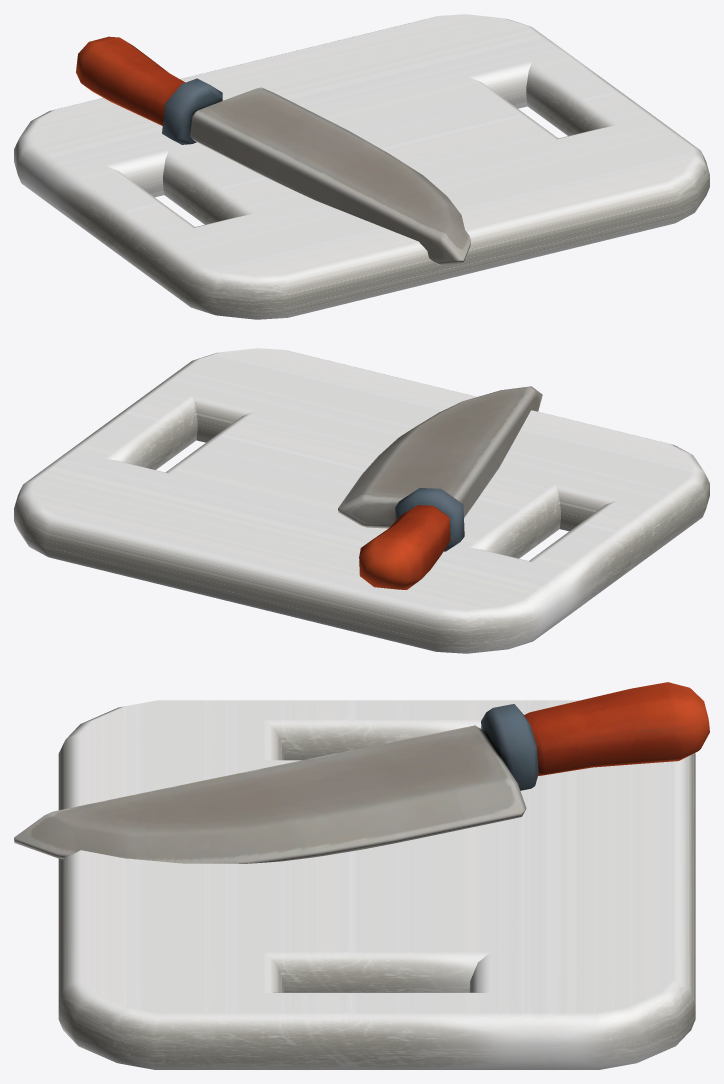
The model's file is CuttingBoard.fbx.
The picture shows the model from 3 angles, top to bottom: view 1: azimuth 30°, elevation 25°; view 2: azimuth 150°, elevation 25°; view 3: azimuth 270°, elevation 25°; orthographic projection. The views are drawn at different scales.
Parts seen in each view (by area): view 1: Combined Mesh (root: scene)_9, Knife_0; view 2: Combined Mesh (root: scene)_9, Knife_0; view 3: Combined Mesh (root: scene)_9, Knife_0.
Part boxes in pixels (left/top/right/bottom): Combined Mesh (root: scene)_9: left=14, top=14, right=709, bottom=319; Knife_0: left=76, top=36, right=470, bottom=265; Combined Mesh (root: scene)_9: left=14, top=348, right=709, bottom=653; Knife_0: left=338, top=386, right=542, bottom=589; Combined Mesh (root: scene)_9: left=58, top=700, right=695, bottom=1069; Knife_0: left=14, top=682, right=709, bottom=863.
Bounding box in the file's own units: 0.9875 × 0.1744 × 0.8756.
